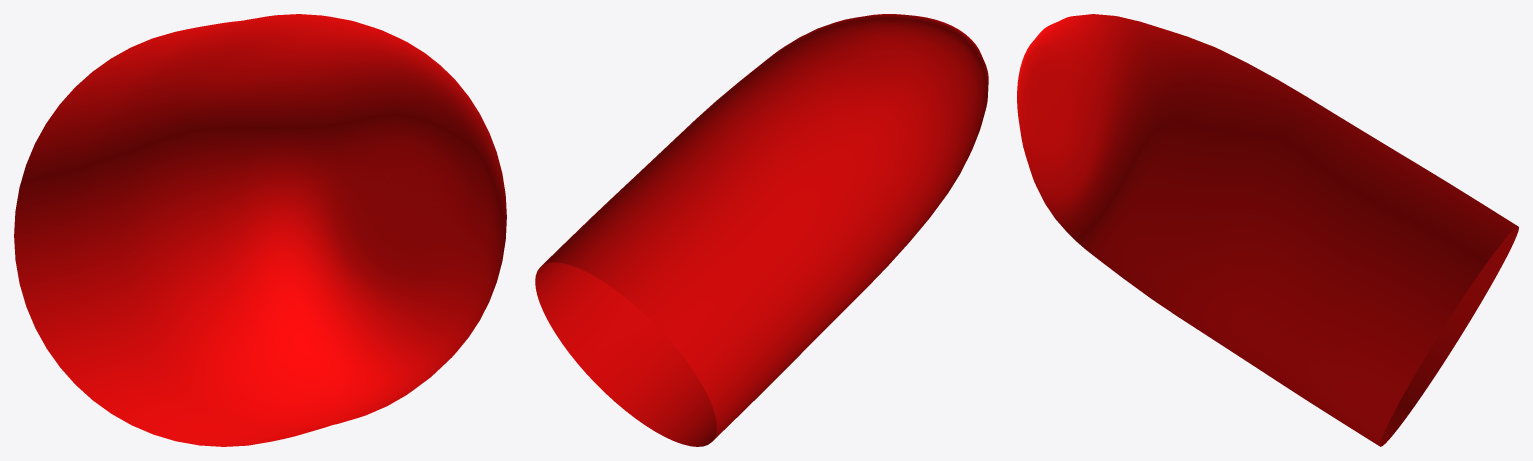
Rendered from lipstick.obj.
3 views of the same model, side by side, from view 1: azimuth 30°, elevation 25°; view 2: azimuth 150°, elevation 25°; view 3: azimuth 270°, elevation 25° (orthographic). The views are drawn at different scales.
Parts seen in each view (by area): view 1: dynamic; view 2: dynamic; view 3: dynamic.
Part boxes in pixels (x1,y1,x2,y2): dynamic: (14, 14, 506, 446); dynamic: (535, 14, 988, 446); dynamic: (1017, 14, 1518, 446).
Bounding box in the file's own units: 0.4512 × 0.5223 × 0.6511.
Materials: 1 (1 with a texture image).
